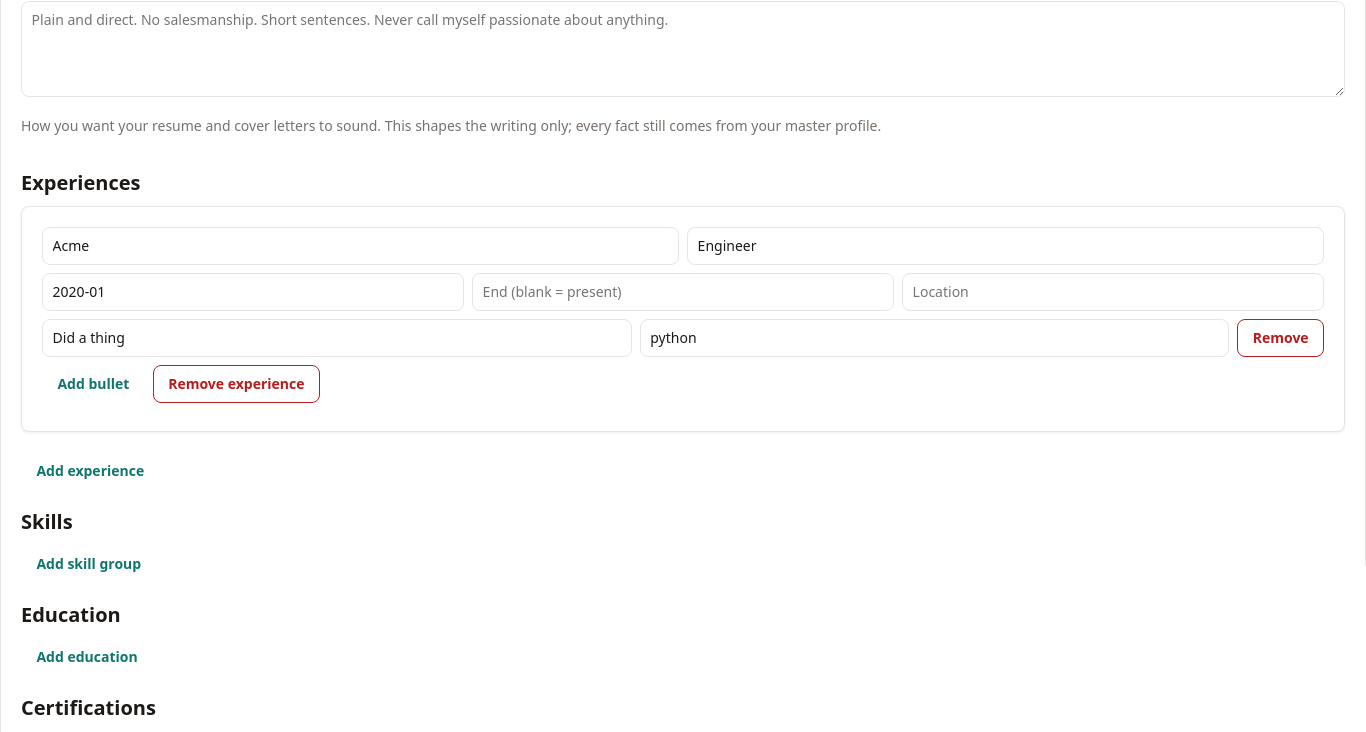
Test: ProfileScreen › adding a bullet grows the bullet input list
(page scrolled)
Expected: the number of fields with placeholder "Bullet text" is 1, [42,319,632,357]
Click the button "Add bullet" at (93, 384), box [42,365,145,403]
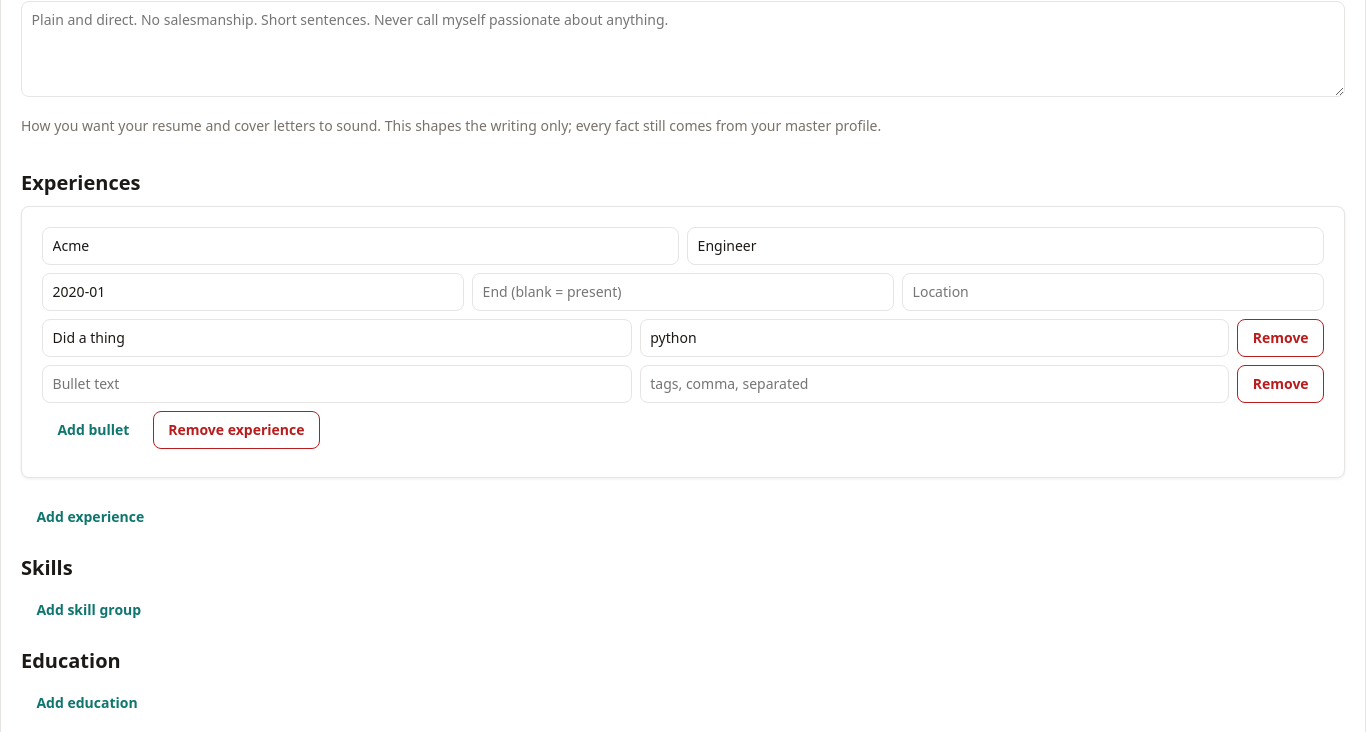
Result: the number of fields with placeholder "Bullet text" is 2 at [42,319,632,357]; [42,365,632,403]
